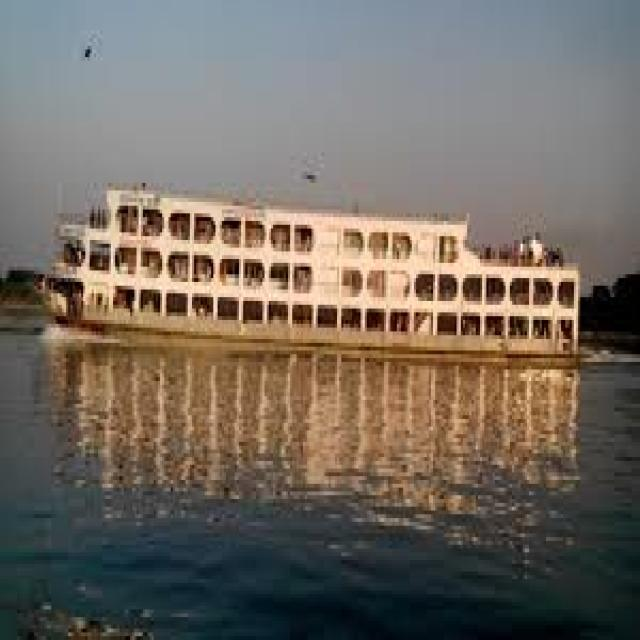passenger ship: (39, 128, 589, 387)
